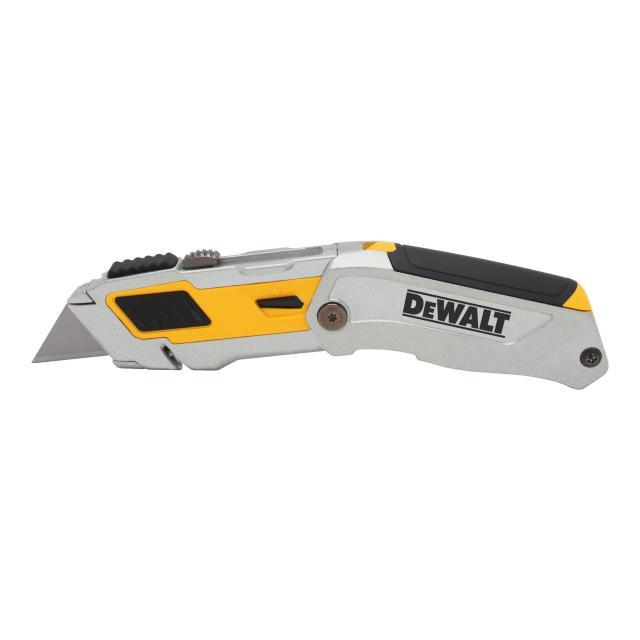estilete: (32, 240, 607, 389)
